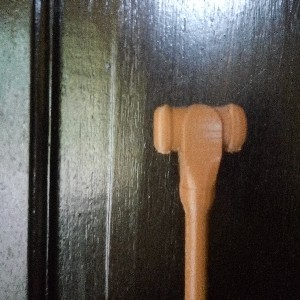palu: (153, 103, 247, 300)
